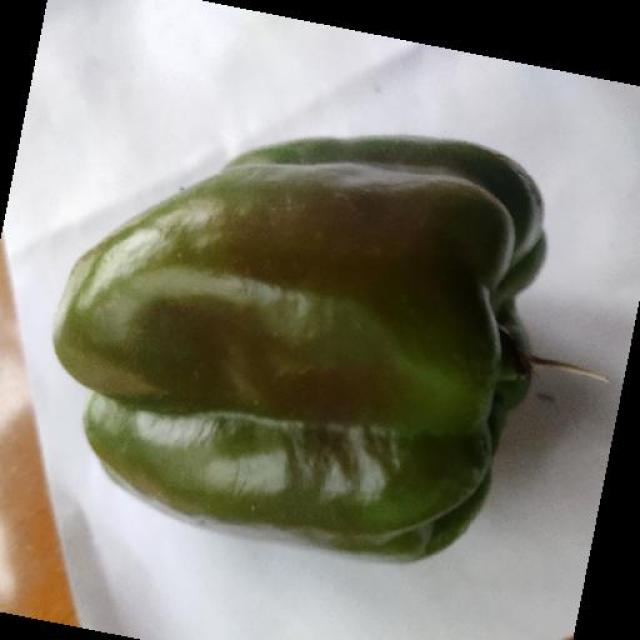Stale_Capsicum: (54, 149, 531, 519)
